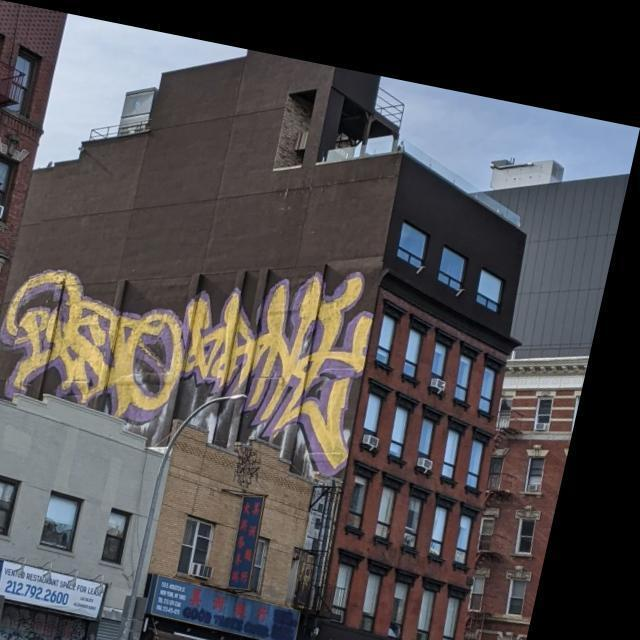-: (0, 195, 396, 473)
